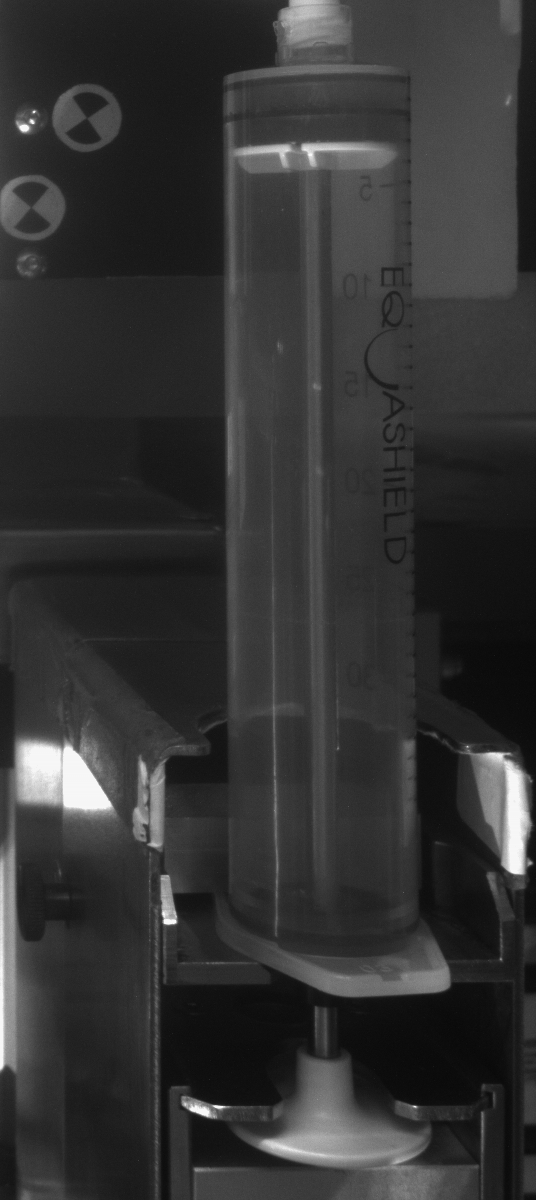piston: (221, 91, 415, 174)
